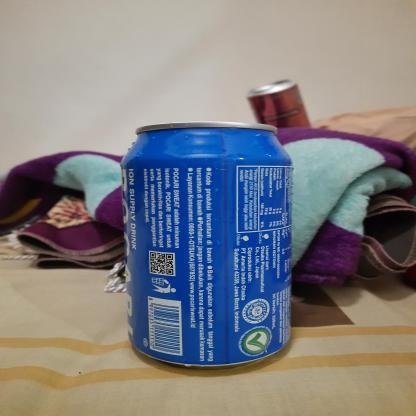can: (118, 118, 297, 374)
